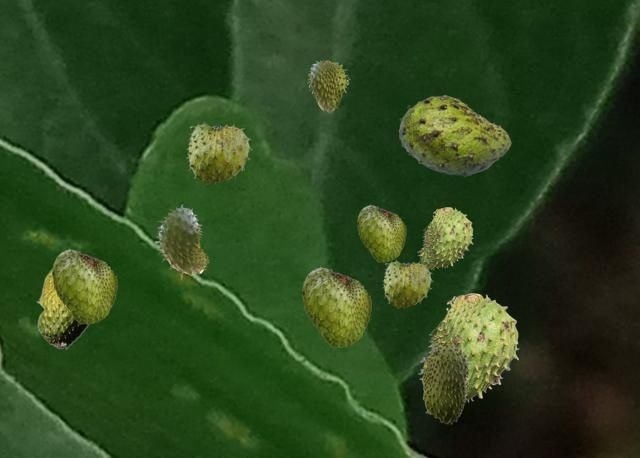guyabano: (418, 293, 518, 403), (398, 95, 510, 175), (302, 266, 370, 346), (52, 248, 116, 323), (420, 338, 470, 423), (36, 269, 89, 349), (186, 121, 251, 183), (155, 204, 208, 279), (417, 207, 472, 269), (357, 204, 405, 261), (382, 259, 432, 307), (307, 60, 349, 112)
